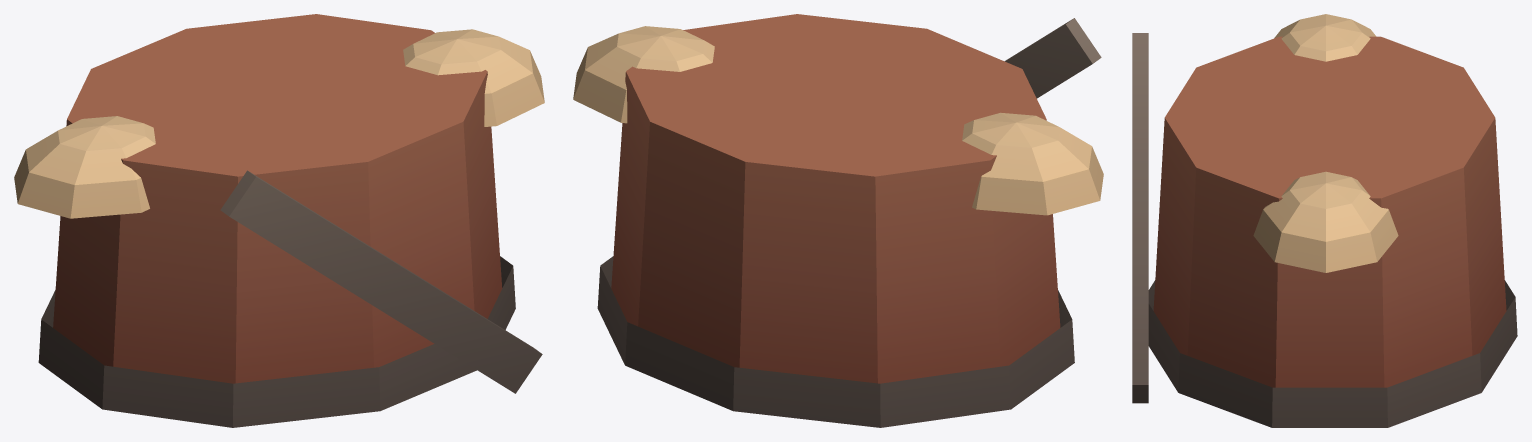
Rendered from berserker_hunter_chest_t1.glb.
3 views of the same model, side by side, from view 1: azimuth 30°, elevation 25°; view 2: azimuth 150°, elevation 25°; view 3: azimuth 270°, elevation 25° (orthographic). The views are drawn at different scales.
Parts seen in each view (by area): view 1: berserker_hunter_chest_t1__chest; view 2: berserker_hunter_chest_t1__chest; view 3: berserker_hunter_chest_t1__chest.
Boxes of the visible parts, <box> form: berserker_hunter_chest_t1__chest: <box>14,14,544,427</box>; berserker_hunter_chest_t1__chest: <box>573,14,1103,427</box>; berserker_hunter_chest_t1__chest: <box>1132,14,1517,427</box>.
Size of the model in its own units: 2.92 by 1.5 by 2.05.
1 material, 1 textured.
